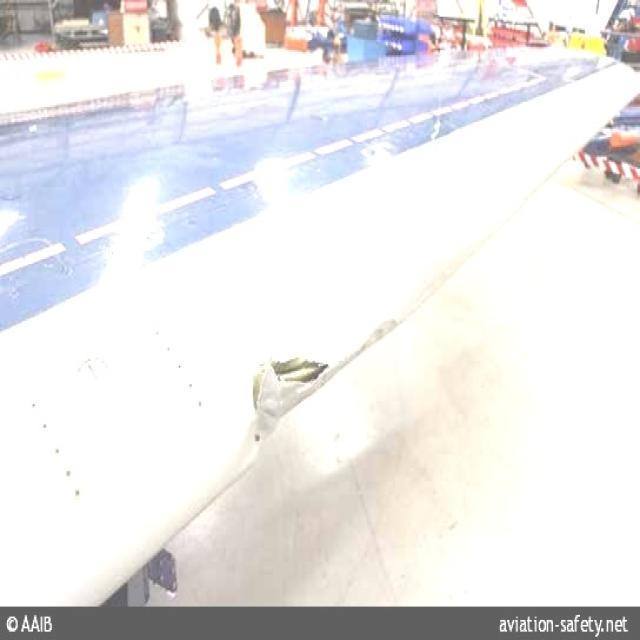crack: (251, 357, 336, 454)
dent: (400, 252, 474, 327)
